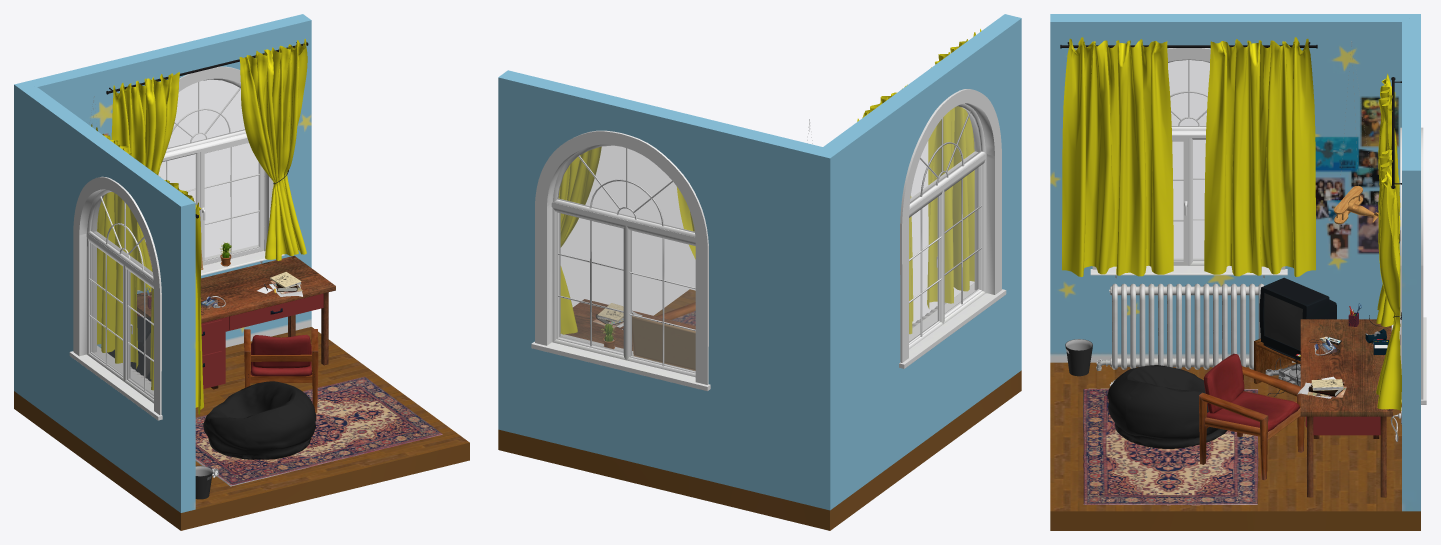
File: room.glb
The picture shows the model from 3 angles, left to right: view 1: azimuth 30°, elevation 25°; view 2: azimuth 150°, elevation 25°; view 3: azimuth 270°, elevation 25°; orthographic projection. The views are drawn at different scales.
Parts seen in each view (by area): view 1: Wall002_low, floor, Curtain01_low, Wall001_low, Window2, Glass.001, Carpet_low, Glass.002, Desk4_low, Beanbag, Curtain02_low, Window1 (+5 smaller); view 2: Wall001_low, Wall002_low, Glass.001, Window1, Window2, floor, Glass.002, Curtain02_low, Curtain01_low, Board_low, Desk4_low; view 3: Curtain02_low, Wall002_low, floor, Carpet_low, Wall001_low, Radiator_low, Beanbag, Desk4_low, Chair, Curtain01_low, Glass.002, Window2 (+8 smaller).
Part boxes in pixels (box(x1,y1,x2,y2)): Wall002_low: box(14, 84, 195, 512); floor: box(14, 327, 469, 530); Curtain01_low: box(111, 39, 307, 292); Wall001_low: box(14, 14, 311, 347); Window2: box(69, 176, 162, 420); Glass.001: box(145, 80, 259, 260); Carpet_low: box(195, 376, 442, 486); Glass.002: box(91, 192, 153, 396); Desk4_low: box(137, 255, 335, 383); Beanbag: box(203, 381, 316, 459); Curtain02_low: box(91, 124, 203, 414); Window1: box(137, 66, 284, 290); Wall001_low: box(498, 70, 830, 510); Wall002_low: box(823, 14, 1021, 509); Glass.001: box(558, 146, 695, 371); Window1: box(531, 130, 710, 391); Window2: box(899, 89, 1006, 368); floor: box(498, 289, 1021, 530); Glass.002: box(909, 106, 981, 342); Curtain02_low: box(857, 29, 981, 333); Curtain01_low: box(558, 147, 695, 334); Board_low: box(632, 316, 695, 370); Desk4_low: box(565, 299, 695, 350); Curtain02_low: box(1062, 37, 1315, 276); Wall002_low: box(1050, 14, 1420, 362); floor: box(1050, 362, 1420, 530); Carpet_low: box(1083, 388, 1258, 505); Wall001_low: box(1402, 14, 1420, 511); Radiator_low: box(1110, 283, 1264, 369); Beanbag: box(1107, 365, 1227, 448); Desk4_low: box(1300, 319, 1392, 427); Chair: box(1199, 353, 1304, 480); Curtain01_low: box(1376, 73, 1401, 410); Glass.002: box(1168, 60, 1209, 260); Window2: box(1090, 48, 1287, 278).
Bounding box in the file's own units: 2.71 × 2.87 × 2.71.
Materials: 54 (48 with a texture image).
